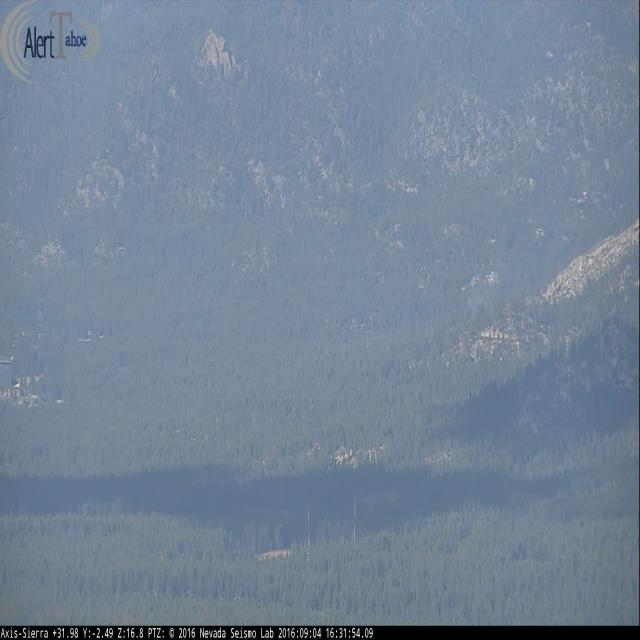smoke: (462, 283, 489, 323)
